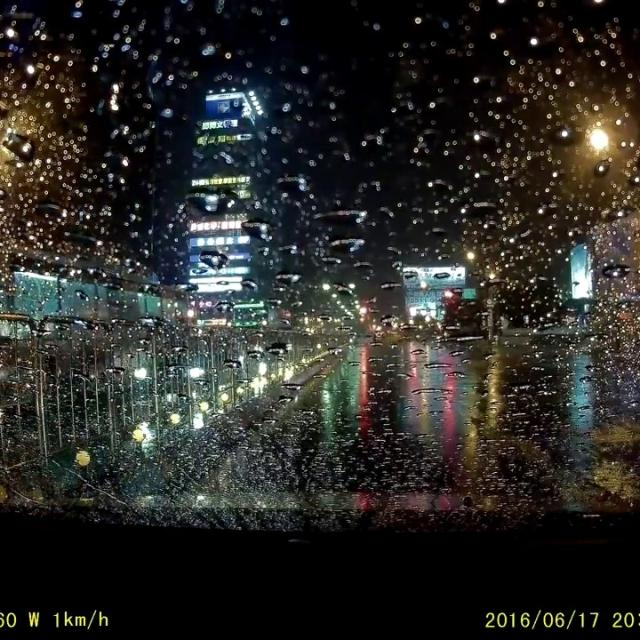Car: (127, 339, 234, 407), (439, 295, 496, 340)
